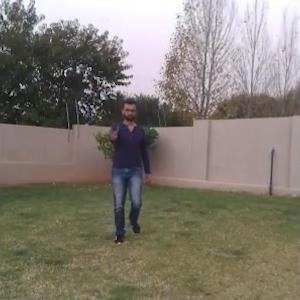takeoff-hand: (106, 119, 125, 146)
